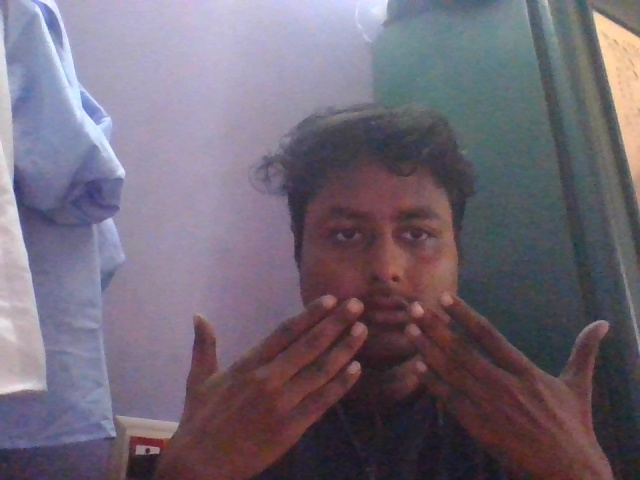thankyou: (150, 249, 617, 480)
